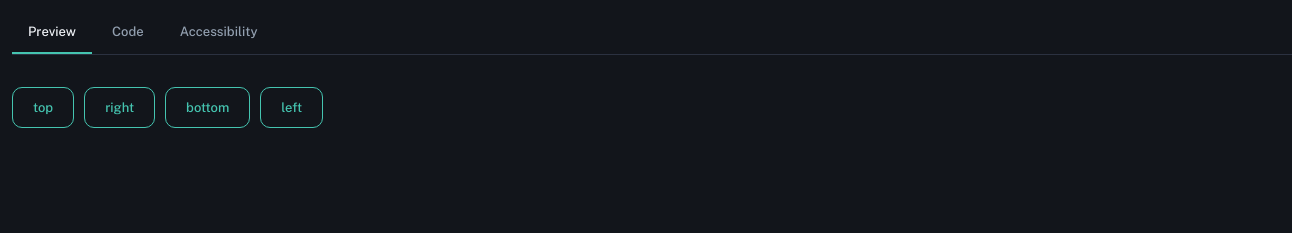
Test case: TooltipDoc › switches to the Accessibility tab and lists the a11y notes
The width and height of the screenshot is (1292, 233).
Click the tab "Accessibility" at (219, 33), box [164,12,274,54]
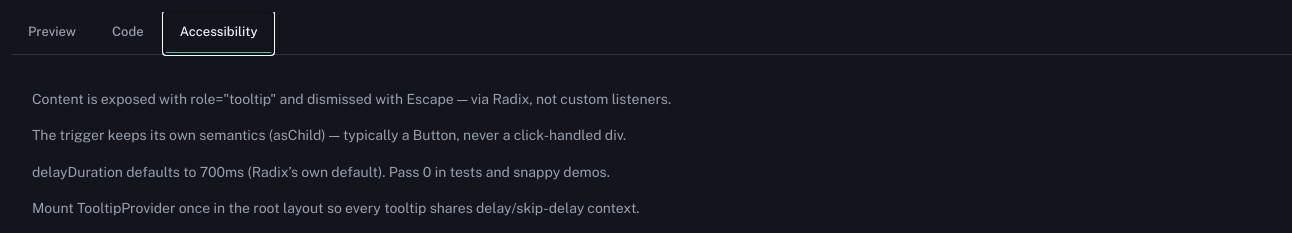
Check: the list item "role=\"tooltip\"" is shown, box [32,90,671,106]
Check: the list item "TooltipProvider" is shown, box [32,200,640,216]
